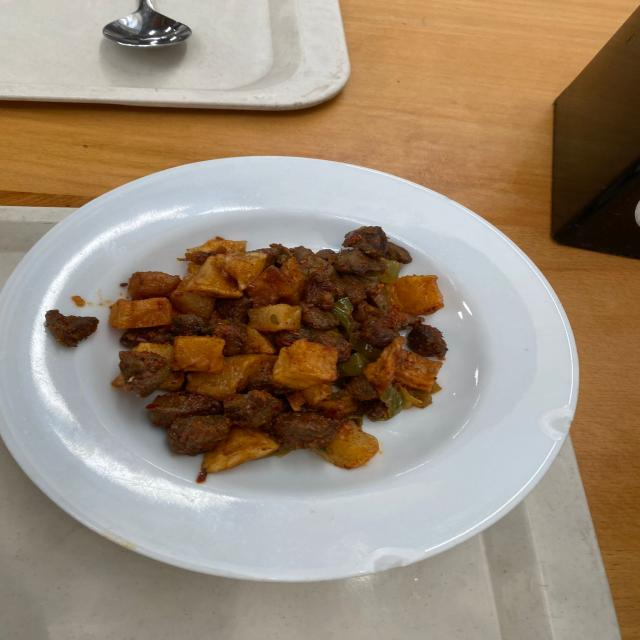ana_yemek: (51, 223, 451, 483)
